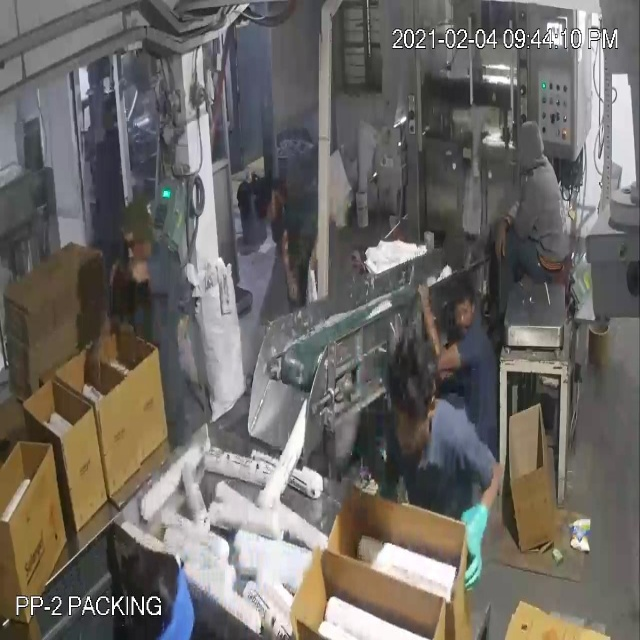Guantes: (452, 484, 503, 600)
Sin_guantes: (421, 277, 465, 378), (105, 248, 161, 297), (277, 226, 300, 308), (487, 219, 520, 265)
